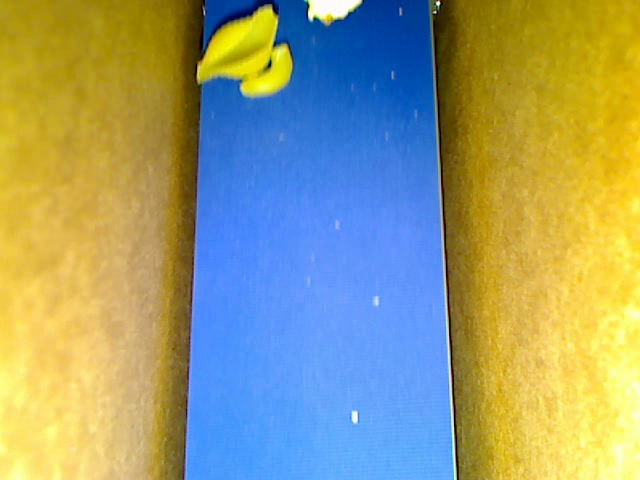elbow: (238, 43, 293, 98)
shell: (196, 2, 280, 85)
